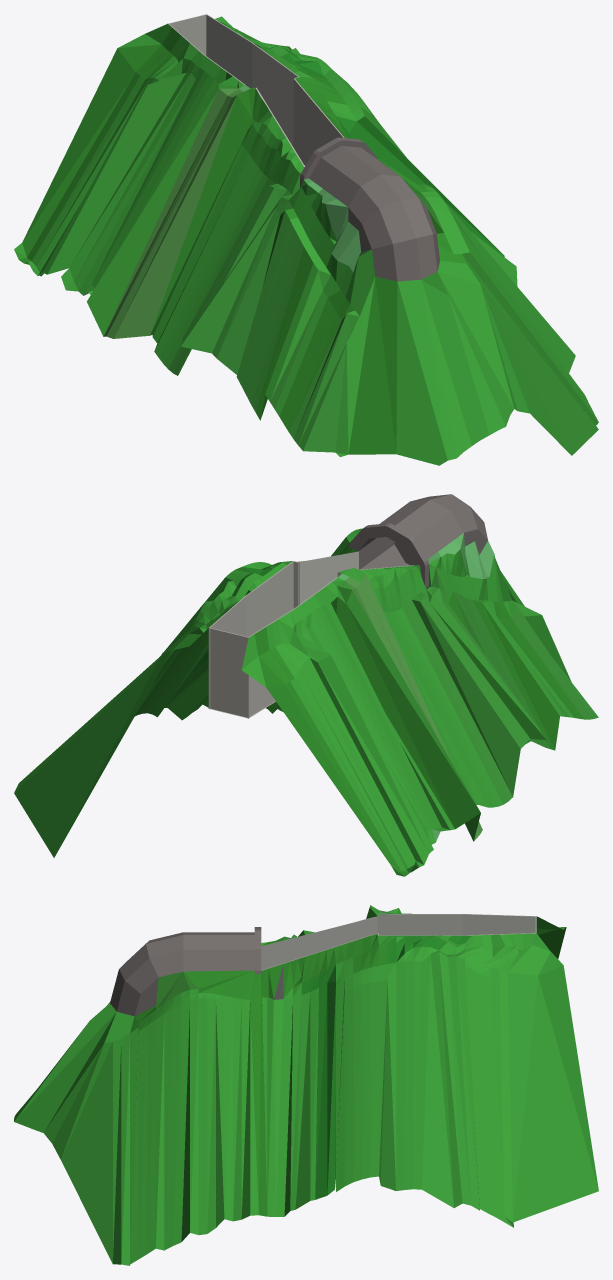
The model's file is f1cano.fbx.
The picture shows the model from 3 angles, top to bottom: view 1: azimuth 30°, elevation 25°; view 2: azimuth 150°, elevation 25°; view 3: azimuth 270°, elevation 25°; orthographic projection. The views are drawn at different scales.
Visible parts, largest first — view 1: Mapa.001; view 2: Mapa.001; view 3: Mapa.001.
Part boxes in pixels (x1,y1,x2,y2): Mapa.001: (14, 14, 598, 465); Mapa.001: (14, 494, 598, 876); Mapa.001: (14, 905, 598, 1265).
Size of the model in its own units: 37664 by 27806 by 53239.
